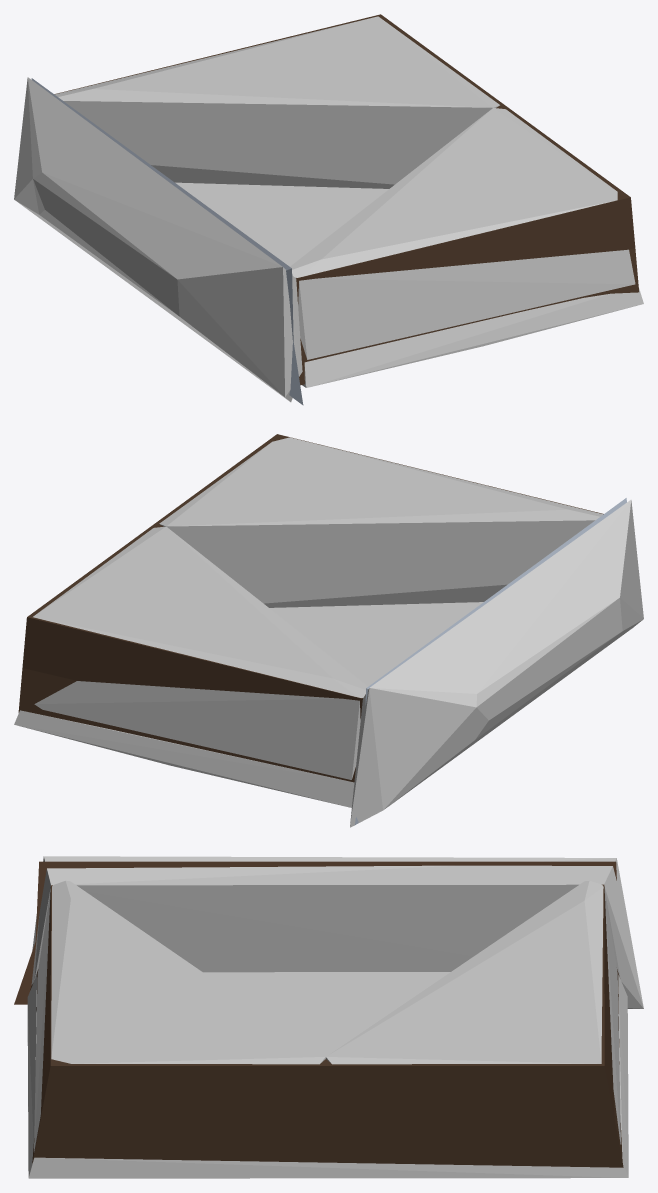
The model's file is SM_Prop_Drawer_01_Drawer_02.fbx.
The picture shows the model from 3 angles, top to bottom: view 1: azimuth 30°, elevation 25°; view 2: azimuth 150°, elevation 25°; view 3: azimuth 270°, elevation 25°; orthographic projection. The views are drawn at different scales.
Parts seen in each view (by area): view 1: SM_Prop_Drawer_01_Drawer_02_ConvexHulls, SM_Prop_Drawer_01_Drawer_02; view 2: SM_Prop_Drawer_01_Drawer_02_ConvexHulls, SM_Prop_Drawer_01_Drawer_02; view 3: SM_Prop_Drawer_01_Drawer_02_ConvexHulls, SM_Prop_Drawer_01_Drawer_02.
Part boxes in pixels (left/top/right/bottom): SM_Prop_Drawer_01_Drawer_02_ConvexHulls: left=14, top=16, right=643, bottom=402; SM_Prop_Drawer_01_Drawer_02: left=31, top=14, right=638, bottom=405; SM_Prop_Drawer_01_Drawer_02_ConvexHulls: left=14, top=437, right=643, bottom=827; SM_Prop_Drawer_01_Drawer_02: left=18, top=434, right=626, bottom=825; SM_Prop_Drawer_01_Drawer_02_ConvexHulls: left=27, top=856, right=643, bottom=1178; SM_Prop_Drawer_01_Drawer_02: left=14, top=861, right=623, bottom=1167.
Bounding box in the file's own units: 60.78 × 74.47 × 19.19.
2 materials, 1 textured.
